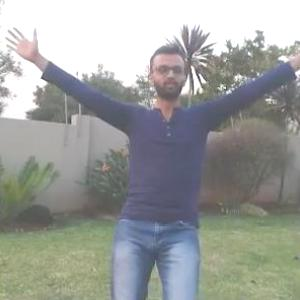takeoff: (8, 33, 299, 299)
